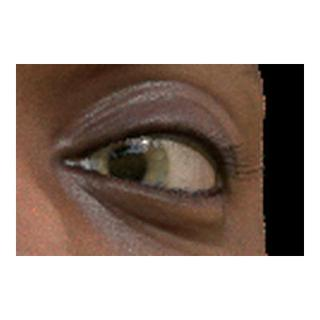pupil: (108, 147, 146, 185)
